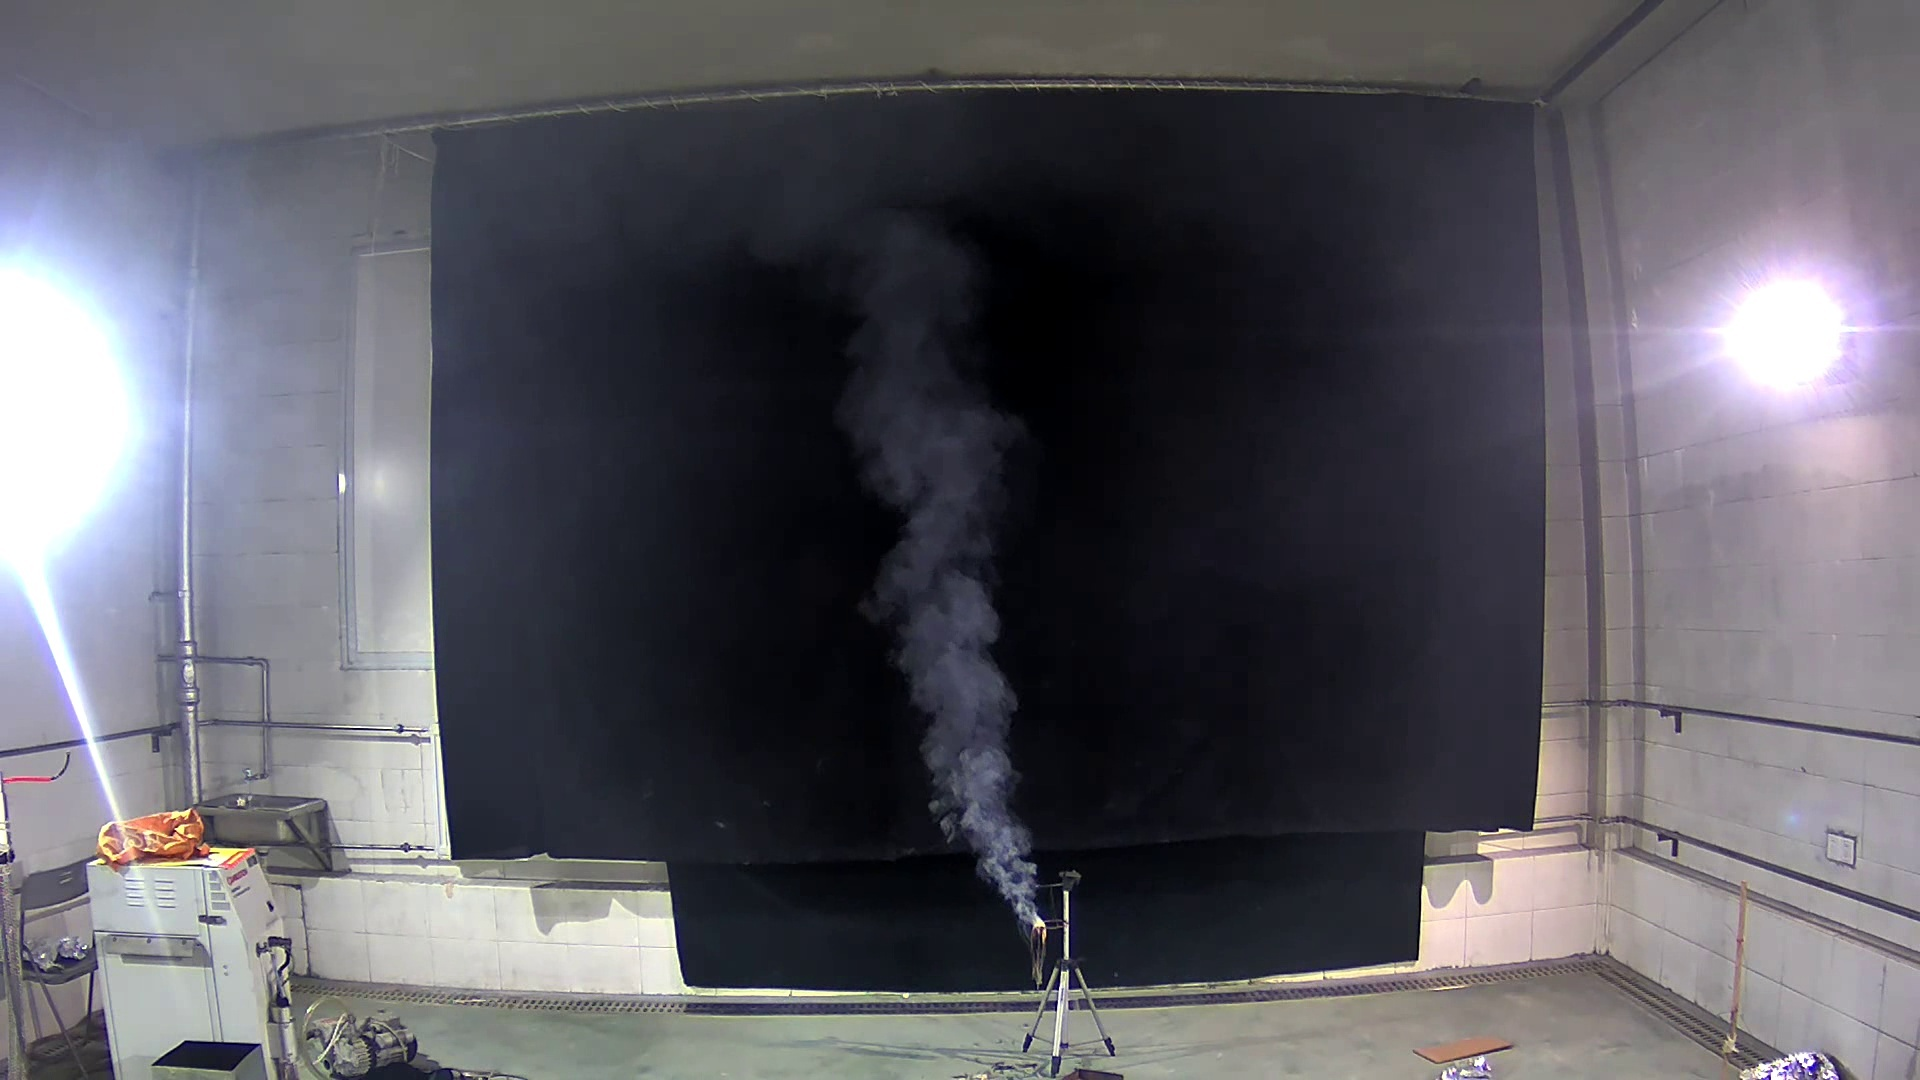smoke: (793, 225, 1046, 918)
